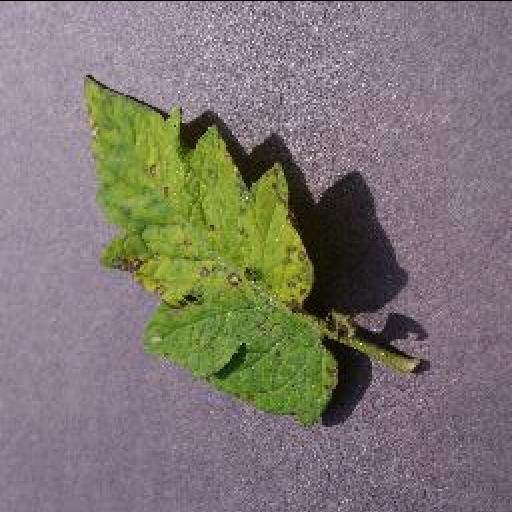disease_tomato: (81, 76, 339, 420)
